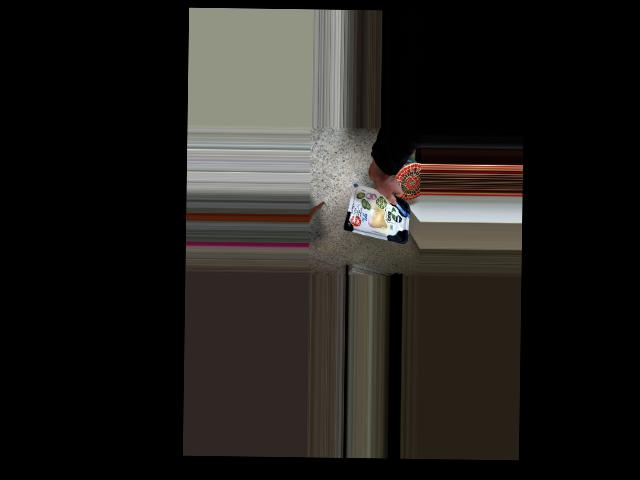cheese: (342, 189, 414, 238)
